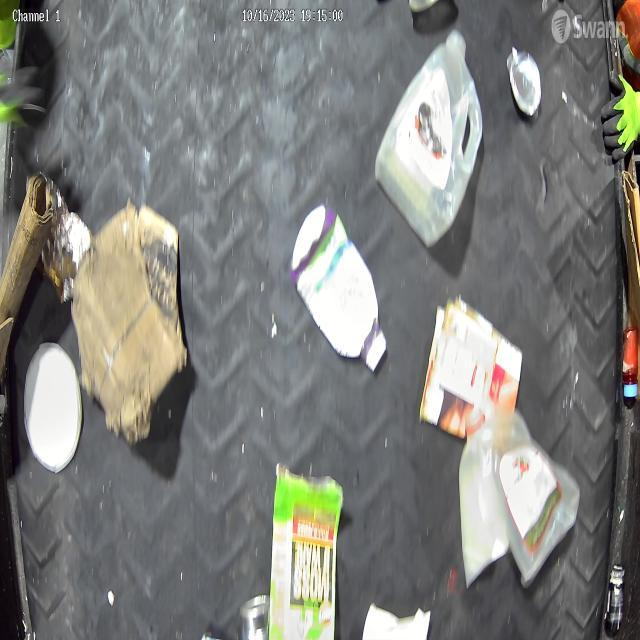can: (506, 42, 544, 124), (238, 588, 271, 640)
milk_jug: (372, 23, 482, 248)
